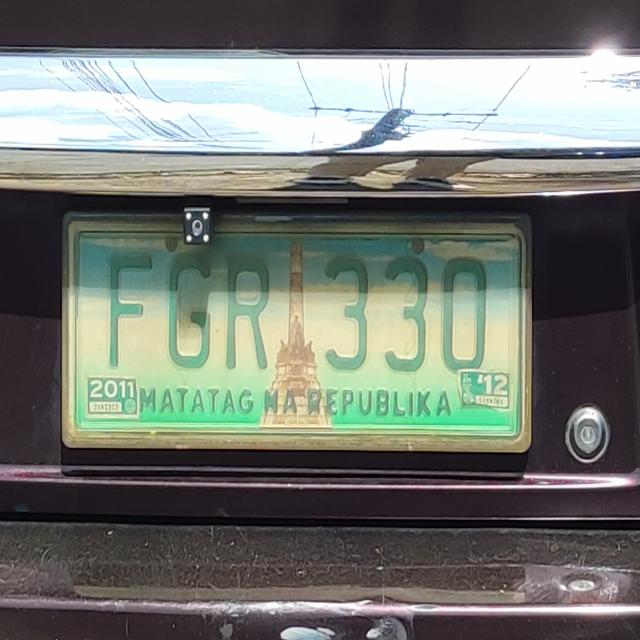plate: (58, 206, 535, 456)
